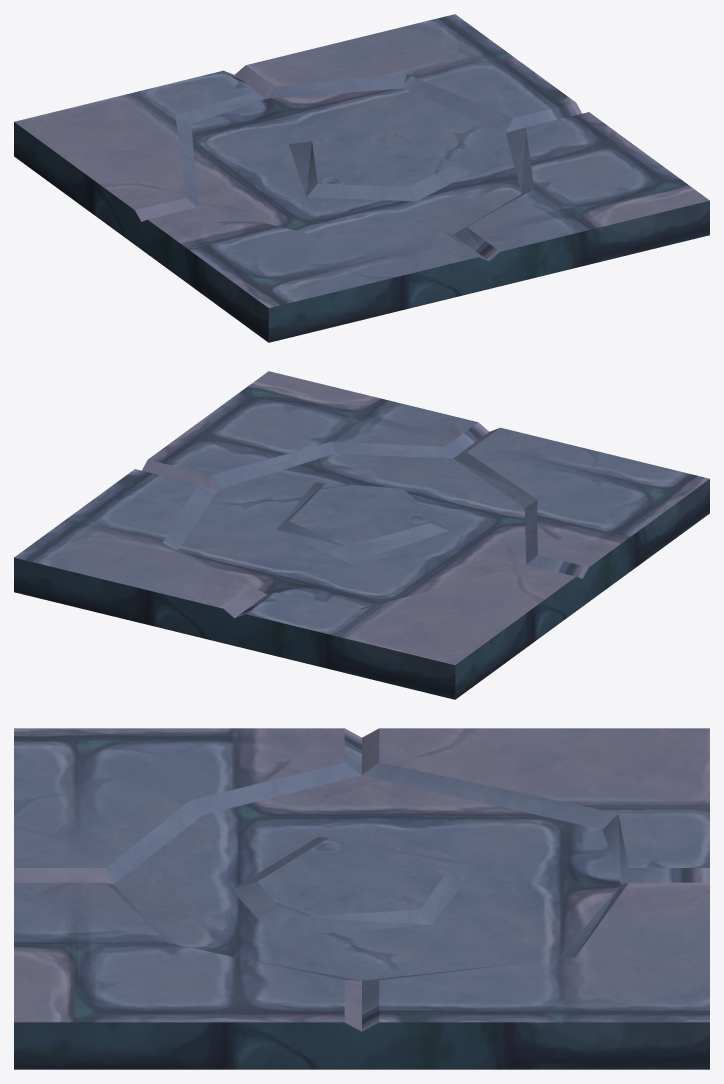
The model's file is floor_tile_small_broken_A.gltf.
3 views of the same model, one above another, from view 1: azimuth 30°, elevation 25°; view 2: azimuth 150°, elevation 25°; view 3: azimuth 270°, elevation 25° (orthographic). The views are drawn at different scales.
Visible parts, largest first — view 1: floor_tile_small_broken_A; view 2: floor_tile_small_broken_A; view 3: floor_tile_small_broken_A.
Part boxes in pixels (x1,y1,x2,y2): floor_tile_small_broken_A: (14,14,709,342); floor_tile_small_broken_A: (14,371,709,699); floor_tile_small_broken_A: (14,728,709,1069).
Size of the model in its own units: 2 by 0.15 by 2.
Materials: 2 (2 with a texture image).
